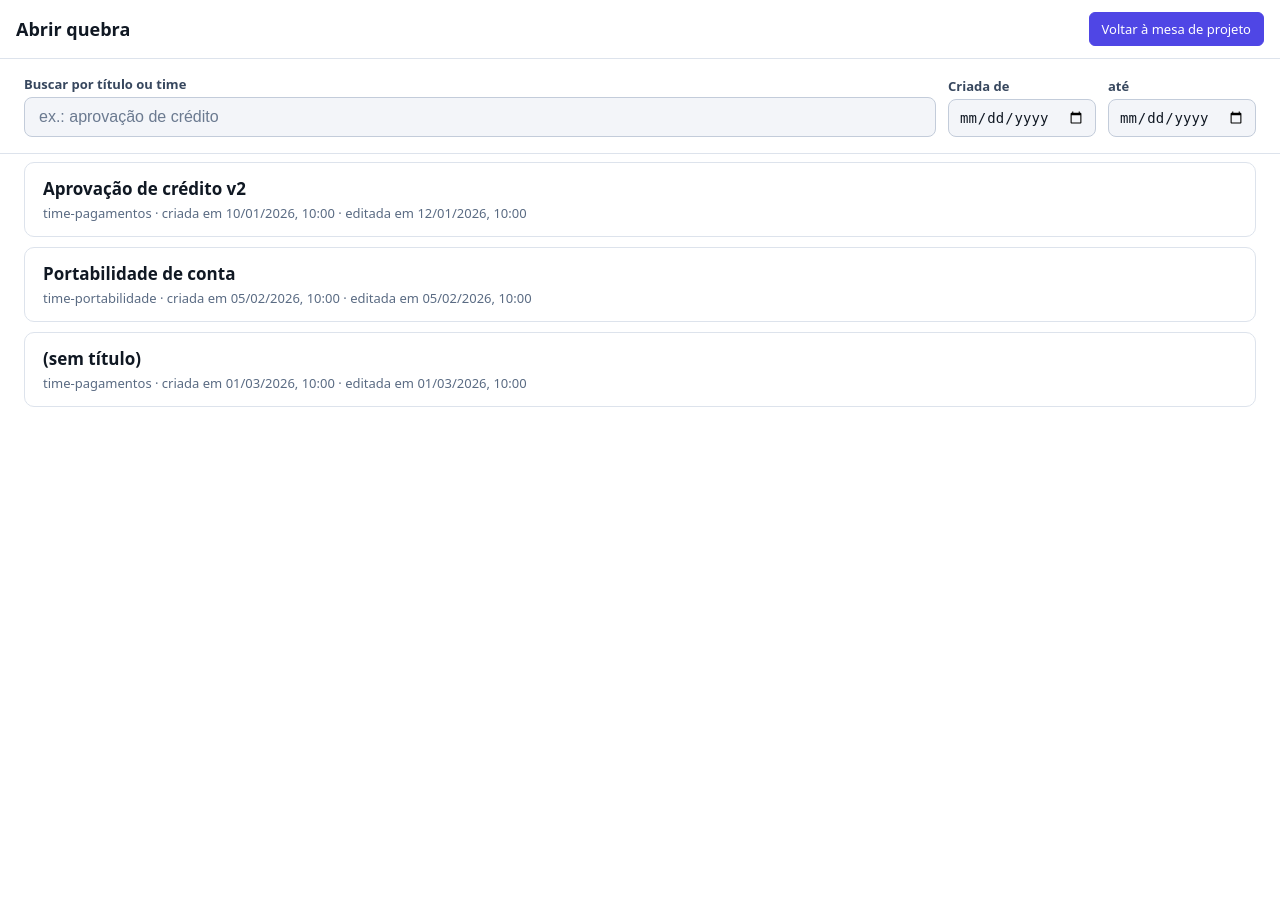
Test case: AbrirQuebraScreen › busca por time também filtra (não só título)
The width and height of the screenshot is (1280, 900).
In the field labelled "Buscar por título ou time": (480, 117) [24,97,936,137], type "portabilidade"
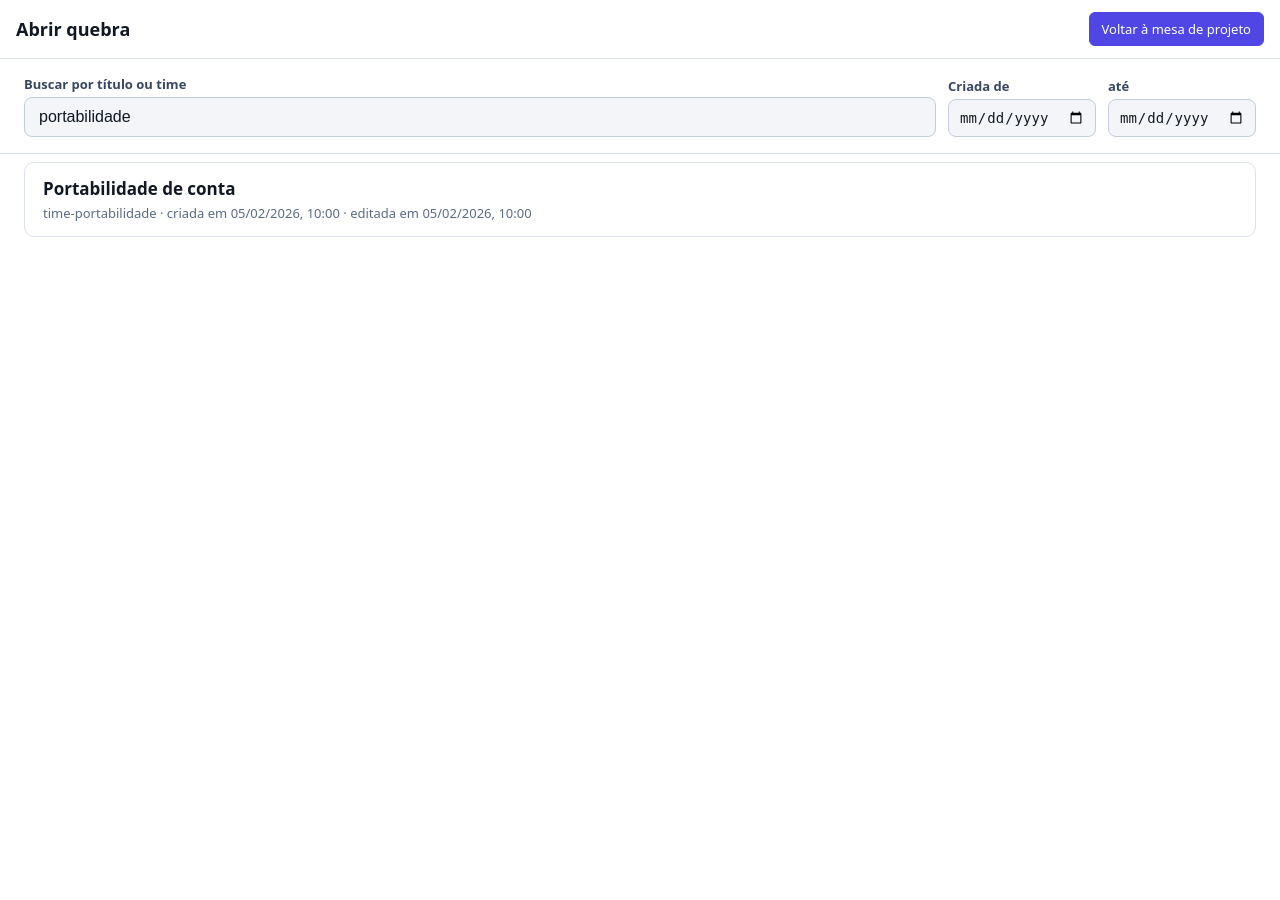
Check: the text "Portabilidade de conta" is shown, box [43,177,236,200]
Check: the button "Aprovação de crédito v2" is gone
